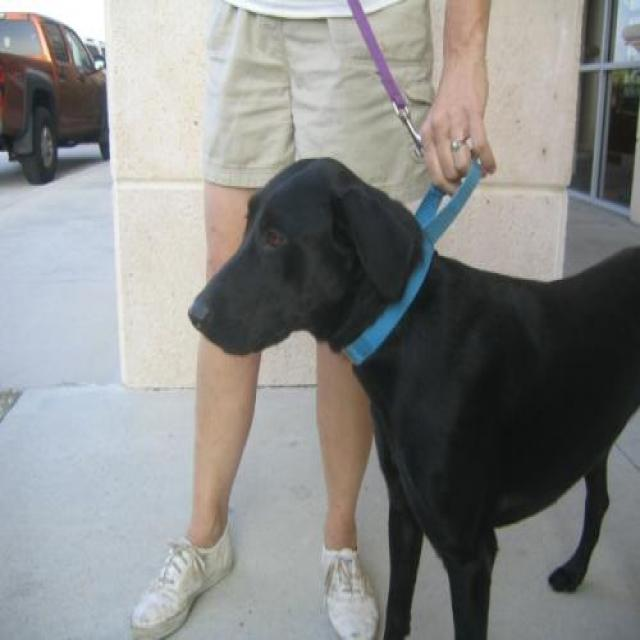dogs: (184, 148, 640, 638)
